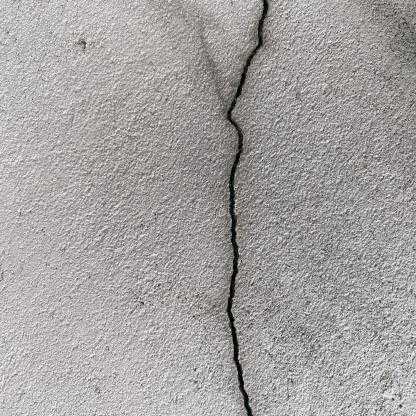crack: (226, 1, 269, 415)
